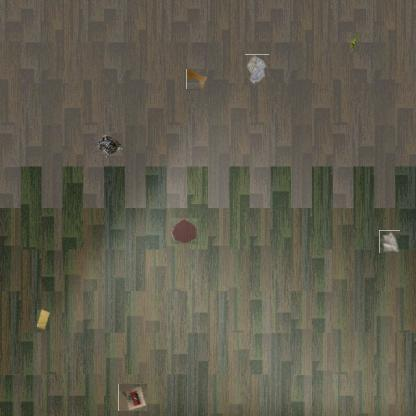dirty: (118, 383, 147, 411), (245, 54, 270, 85), (96, 132, 122, 158), (379, 230, 400, 253), (36, 308, 50, 330), (347, 32, 361, 52)
liquid: (170, 218, 198, 244), (187, 69, 207, 90)
